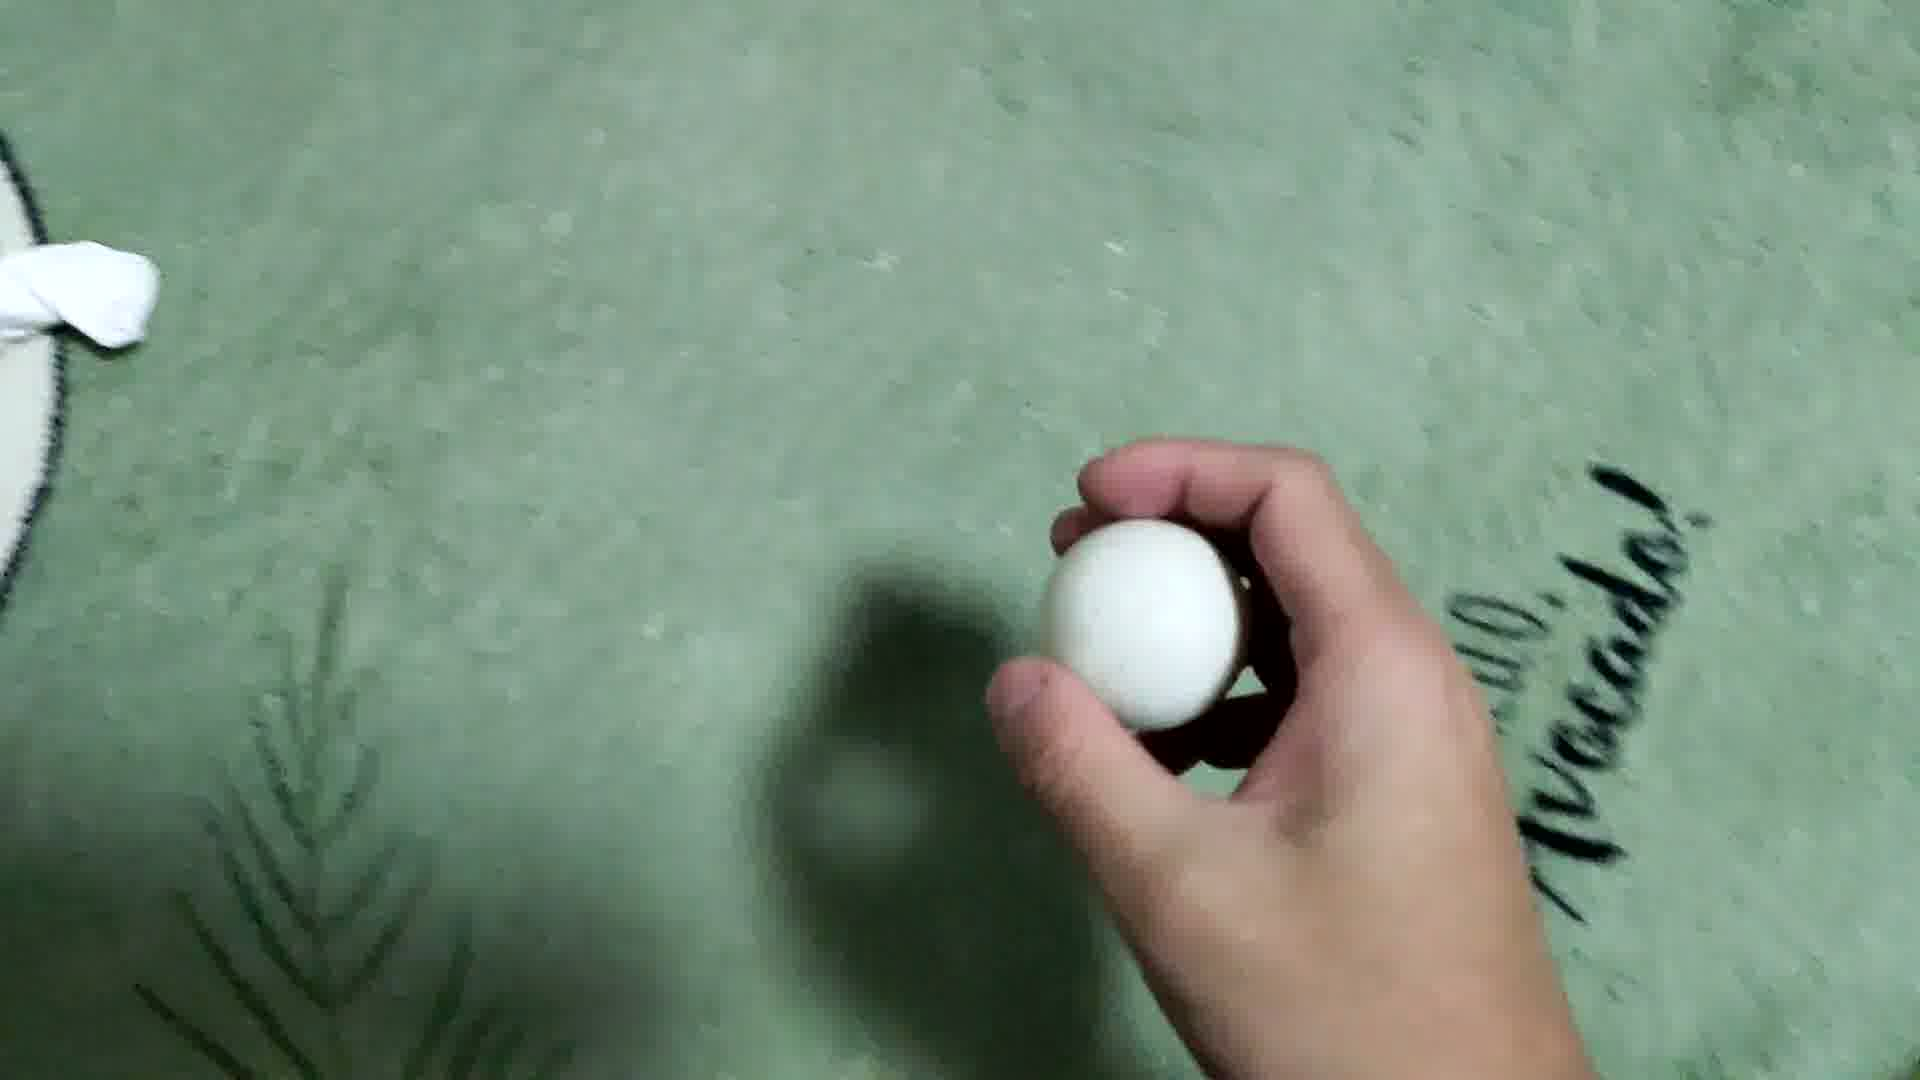Ball: (1043, 516, 1238, 729)
